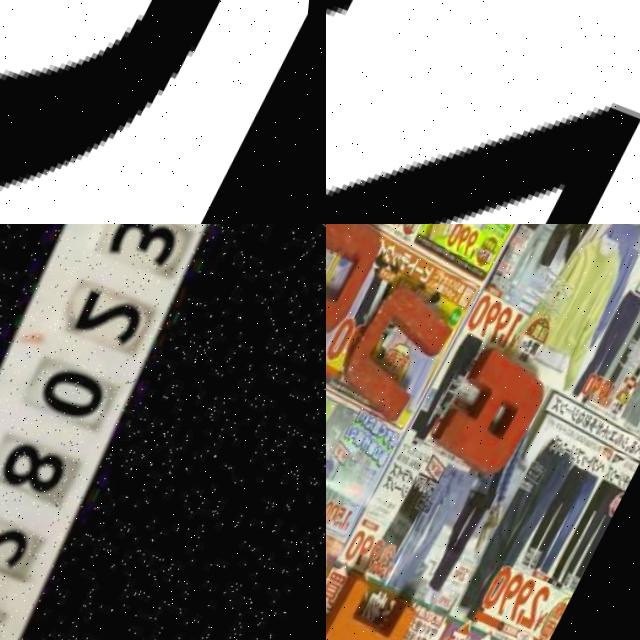0: (10, 337, 148, 464)
2: (44, 263, 184, 389), (0, 491, 72, 608)
3: (78, 224, 216, 310)
8: (0, 410, 112, 540)
A: (430, 340, 566, 489)
I: (326, 579, 435, 640)
O: (326, 224, 399, 343)
U: (331, 286, 465, 435)
Z: (326, 0, 640, 224)
